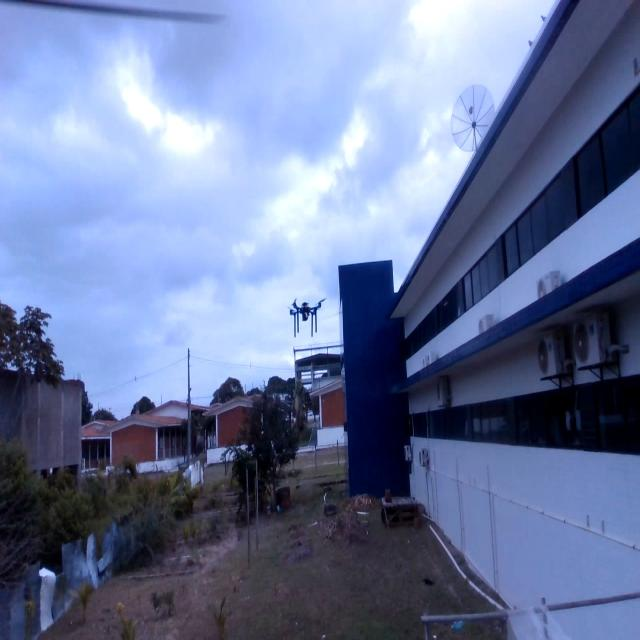-uav-: (284, 292, 330, 345)
